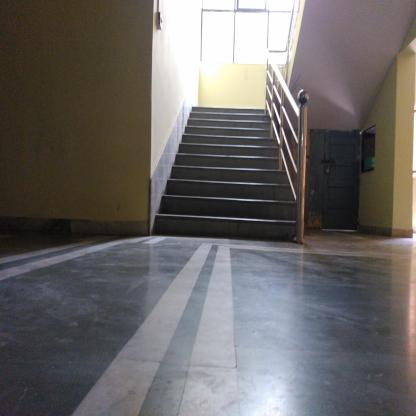stairs: (194, 106, 265, 244)
